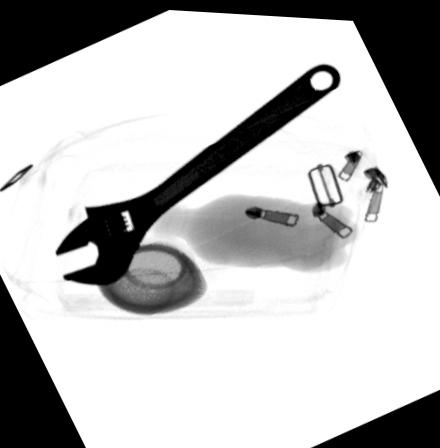Wrench: (51, 56, 340, 286)
